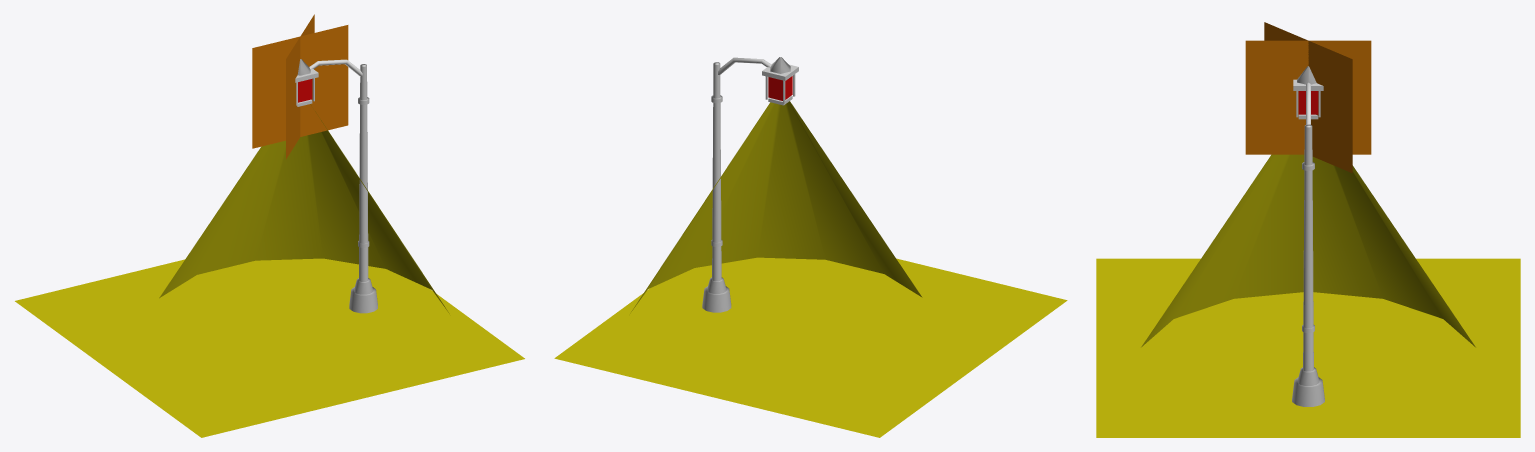
File: leuchte_hafen.glb
3 renders of one model, left to right at view 1: azimuth 30°, elevation 25°; view 2: azimuth 150°, elevation 25°; view 3: azimuth 270°, elevation 25°, orthographic. The views are drawn at different scales.
Visible parts, largest first — view 1: leuchte_hafen_lod0; view 2: leuchte_hafen_lod0; view 3: leuchte_hafen_lod0.
Part boxes in pixels (x1,y1,x2,y2): leuchte_hafen_lod0: (15,14,524,437); leuchte_hafen_lod0: (554,57,1067,437); leuchte_hafen_lod0: (1096,22,1520,437).
Size of what is drawn, in the model's own units: 6.4 by 5.44 by 6.4.
